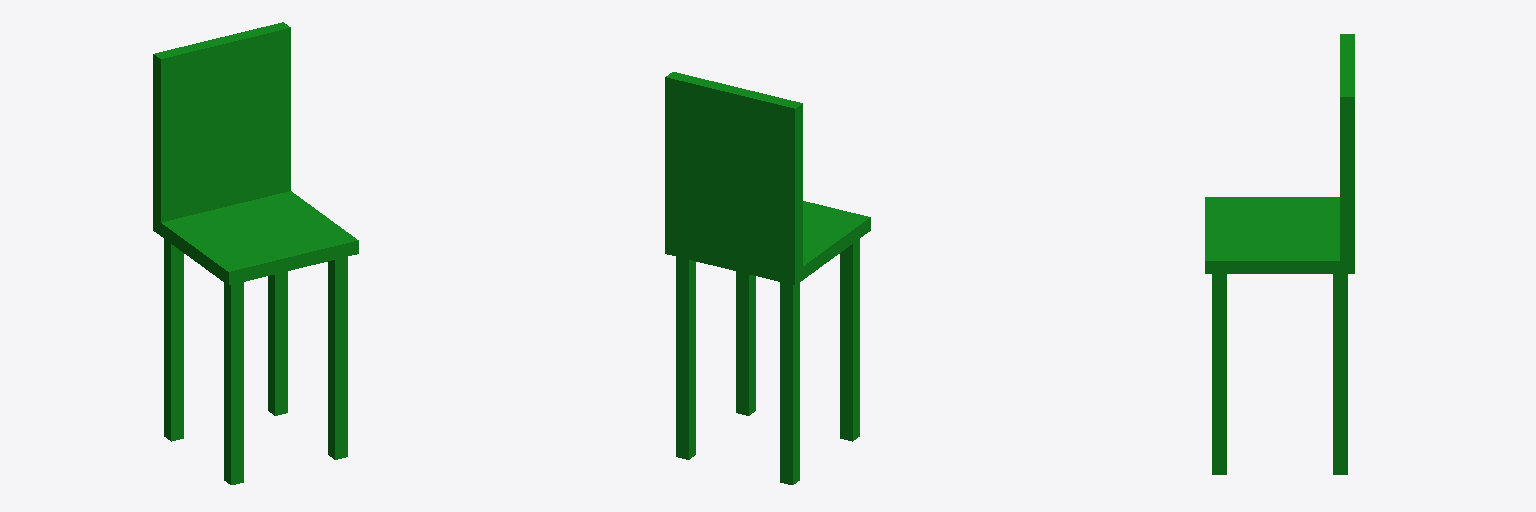
The model's file is cadeira_20260207205412.obj.
3 views of the same model, side by side, from view 1: azimuth 30°, elevation 25°; view 2: azimuth 150°, elevation 25°; view 3: azimuth 270°, elevation 25° (orthographic).
Visible parts, largest first — view 1: encosto, assento, perna1, perna2, perna3, perna4; view 2: encosto, assento, perna3, perna4, perna1, perna2; view 3: assento, encosto, perna2, perna4.
Boxes of the visible parts, x1=… form: encosto: x1=153, y1=22, x2=290, y2=222; assento: x1=153, y1=191, x2=358, y2=285; perna1: x1=224, y1=282, x2=243, y2=484; perna2: x1=328, y1=257, x2=347, y2=459; perna3: x1=164, y1=239, x2=183, y2=441; perna4: x1=268, y1=271, x2=287, y2=415; encosto: x1=665, y1=72, x2=802, y2=271; assento: x1=665, y1=201, x2=870, y2=285; perna3: x1=780, y1=282, x2=799, y2=484; perna4: x1=676, y1=257, x2=695, y2=459; perna1: x1=840, y1=239, x2=859, y2=441; perna2: x1=736, y1=271, x2=755, y2=415; assento: x1=1205, y1=197, x2=1354, y2=273; encosto: x1=1340, y1=34, x2=1354, y2=260; perna2: x1=1212, y1=274, x2=1226, y2=474; perna4: x1=1333, y1=274, x2=1347, y2=474.
Size of the model in its own units: 1 by 2.8 by 1.